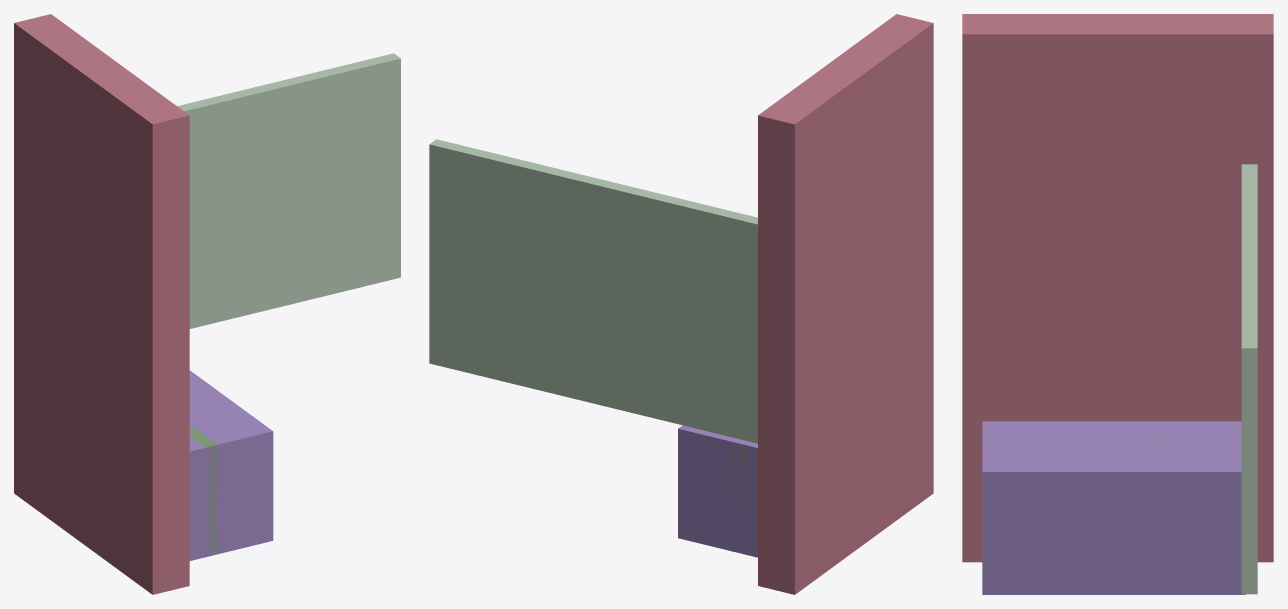
Rendered from 199518_pred.glb.
3 renders of one model, left to right at view 1: azimuth 30°, elevation 25°; view 2: azimuth 150°, elevation 25°; view 3: azimuth 270°, elevation 25°, orthographic. The views are drawn at different scales.
Visible parts, largest first — view 1: world; view 2: world; view 3: world.
Boxes of the visible parts, x1=… form: world: x1=14, y1=14, x2=400, y2=594; world: x1=429, y1=14, x2=933, y2=594; world: x1=962, y1=14, x2=1273, y2=594.
Bounding box in the file's own units: 6.05 × 7.3 × 3.9.
